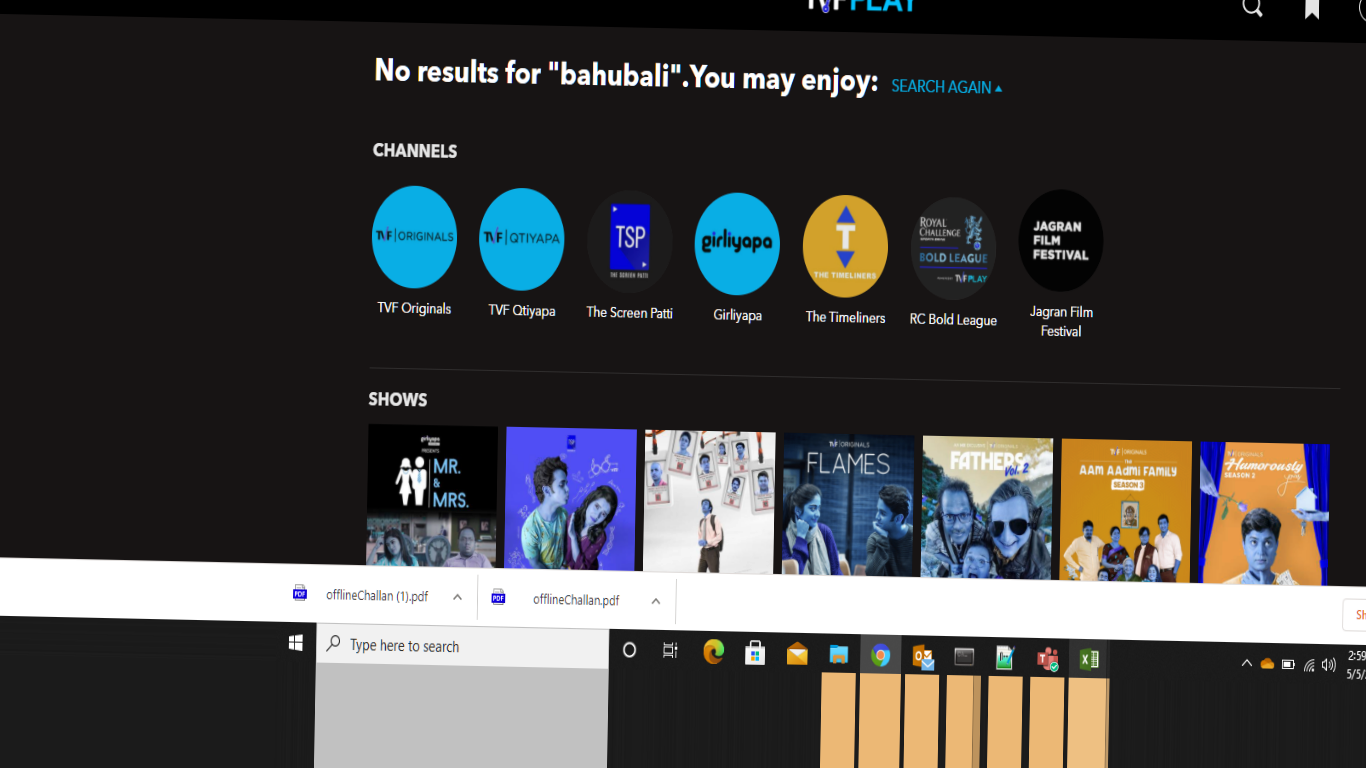noresultsfound: (346, 38, 1041, 119)
searchicon: (1234, 1, 1274, 27)
